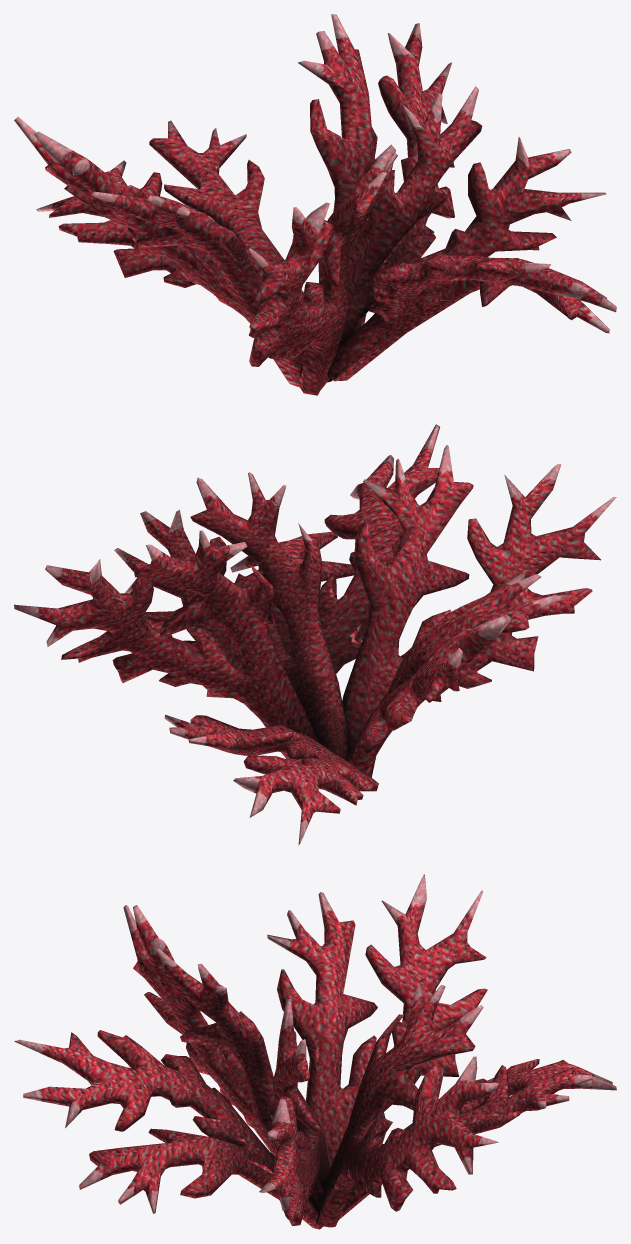
3 views of the same model, one above another, from view 1: azimuth 30°, elevation 25°; view 2: azimuth 150°, elevation 25°; view 3: azimuth 270°, elevation 25° (orthographic). The views are drawn at different scales.
Visible parts, largest first — view 1: 10010_Coral_v1_L3; view 2: 10010_Coral_v1_L3; view 3: 10010_Coral_v1_L3.
Part boxes in pixels (x1=…): 10010_Coral_v1_L3: x1=14, y1=14, x2=616, y2=395; 10010_Coral_v1_L3: x1=14, y1=424, x2=616, y2=845; 10010_Coral_v1_L3: x1=14, y1=874, x2=616, y2=1229.
Bounding box in the file's own units: 0.5625 × 0.6637 × 0.3207.
1 material, 1 textured.
